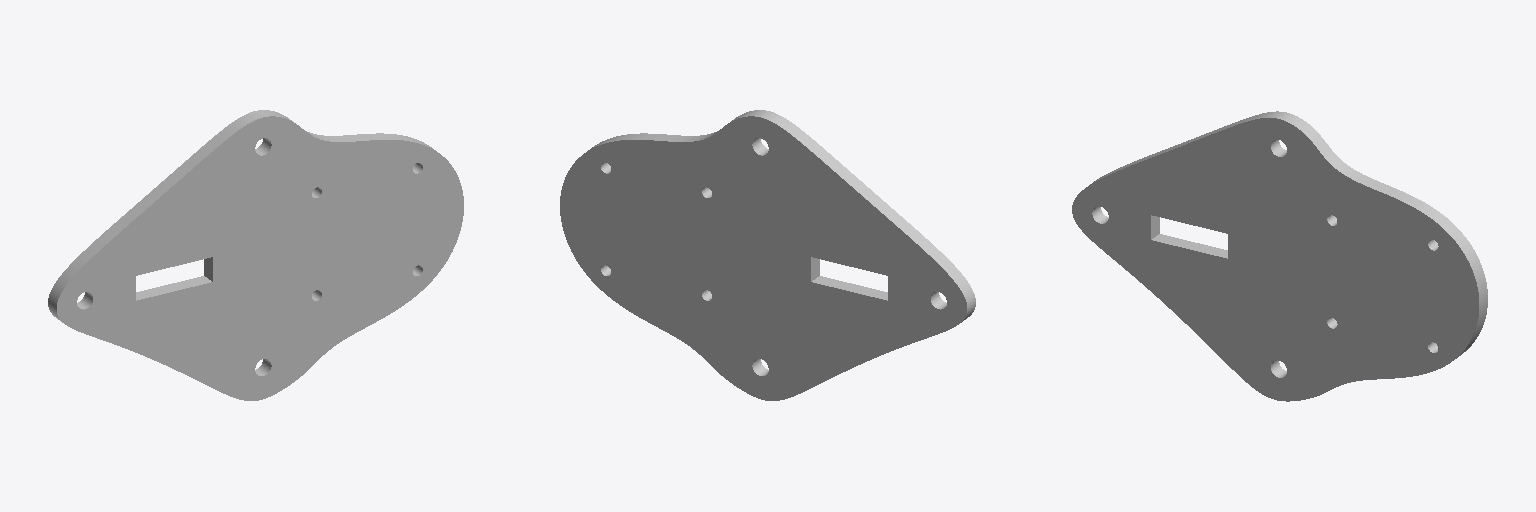
Rendered from ExtruderMountPlate.obj.
3 views of the same model, side by side, from view 1: azimuth 30°, elevation 25°; view 2: azimuth 150°, elevation 25°; view 3: azimuth 330°, elevation 25° (orthographic).
Visible parts, largest first — view 1: Body1; view 2: Body1; view 3: Body1.
Boxes of the visible parts, <box> form: Body1: <box>48,110,463,400</box>; Body1: <box>560,110,975,400</box>; Body1: <box>1072,111,1487,401</box>.
Size of the model in its own units: 137 by 90.67 by 5.